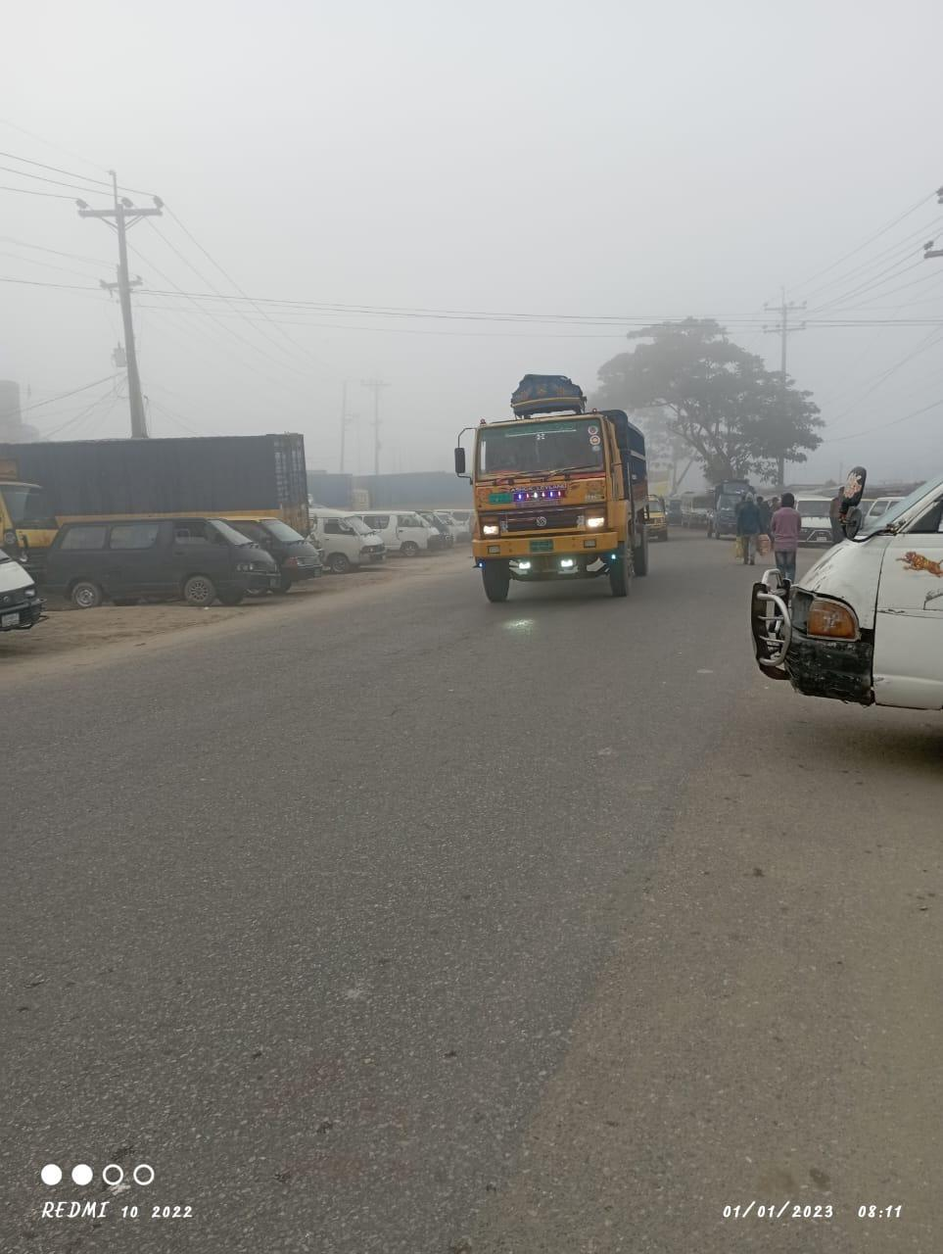Car: (51, 510, 282, 607), (360, 505, 448, 559), (787, 481, 848, 555)
Truck: (444, 368, 650, 611), (6, 427, 313, 546)
